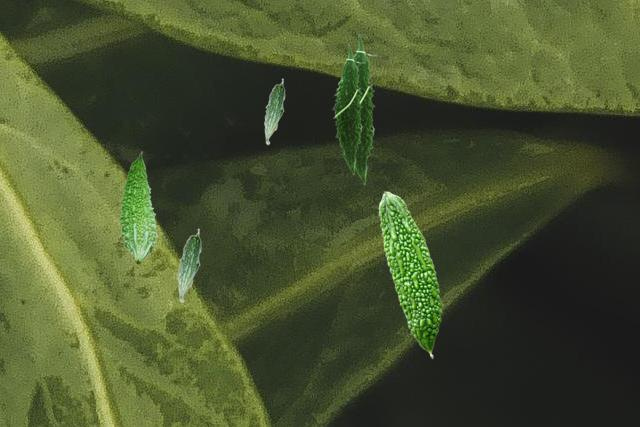ampalaya: (378, 191, 444, 359), (117, 150, 158, 265), (331, 43, 366, 175), (354, 33, 379, 185), (177, 228, 201, 303), (263, 78, 285, 145)
